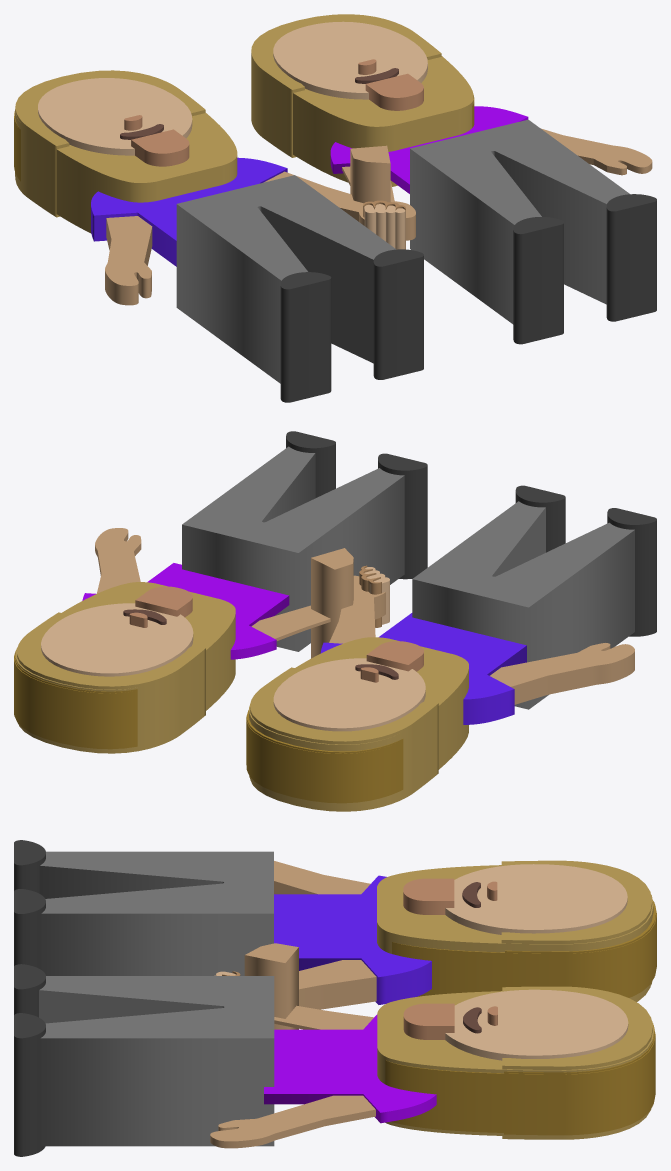
Rendered from emoji_u1f46d_1f3fc.glb.
3 renders of one model, top to bottom at view 1: azimuth 30°, elevation 25°; view 2: azimuth 150°, elevation 25°; view 3: azimuth 270°, elevation 25°, orthographic. The views are drawn at different scales.
Visible parts, largest first — view 1: emoji_u1f46d_1f3fc; view 2: emoji_u1f46d_1f3fc; view 3: emoji_u1f46d_1f3fc.
Part boxes in pixels (left/top/right/bottom): emoji_u1f46d_1f3fc: left=14, top=14, right=656, bottom=402; emoji_u1f46d_1f3fc: left=14, top=431, right=656, bottom=811; emoji_u1f46d_1f3fc: left=14, top=840, right=656, bottom=1156.
Bounding box in the file's own units: 0.0346 × 0.007 × 0.0334.
